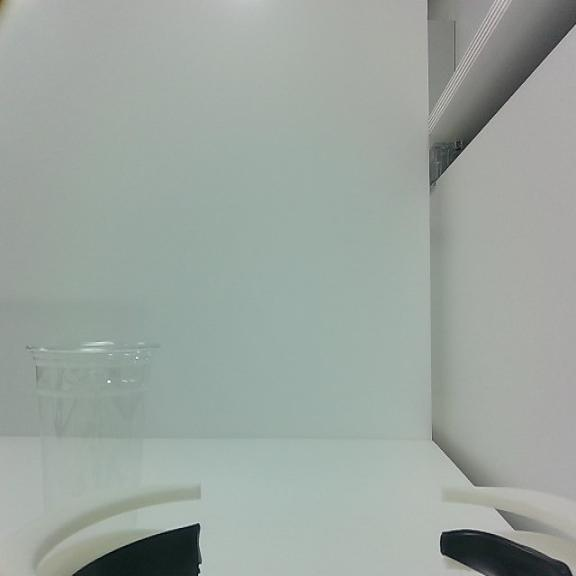Plastik: (26, 338, 160, 516)
